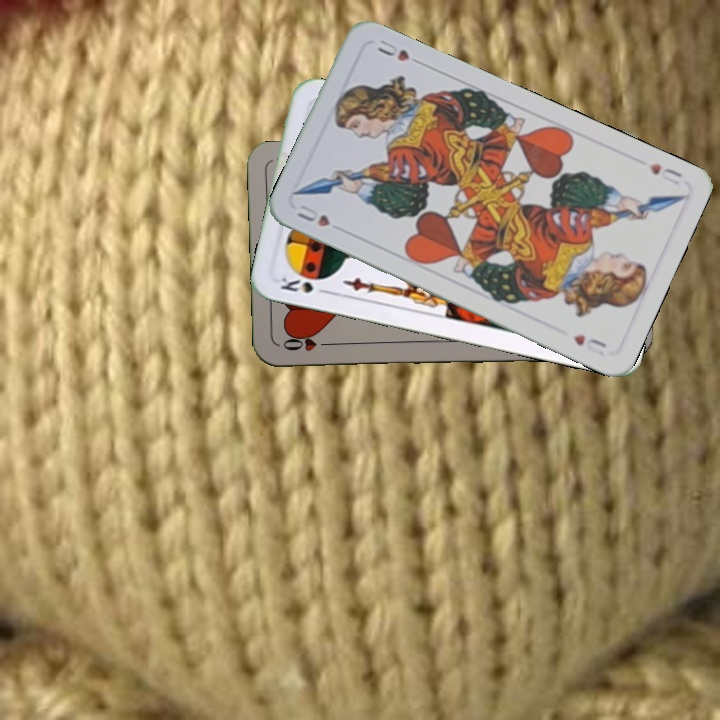HO: (278, 333, 336, 354)
HU: (293, 200, 333, 230), (645, 159, 685, 188)
SK: (276, 273, 333, 297)
